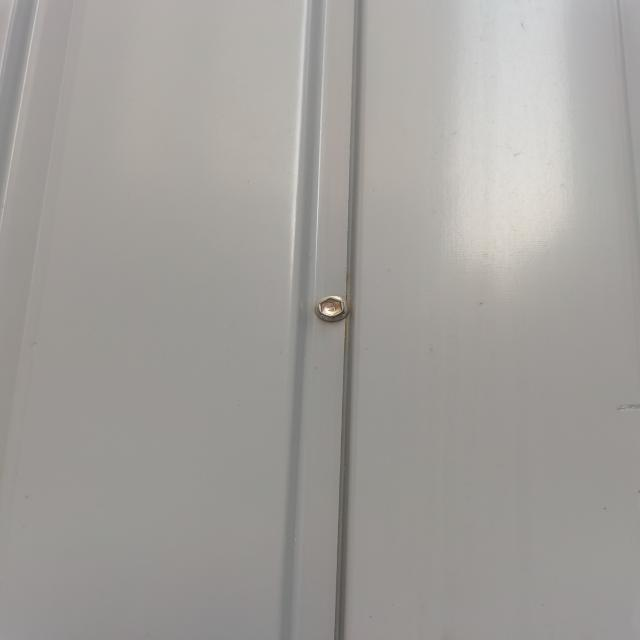bolt head: (316, 295, 348, 320)
